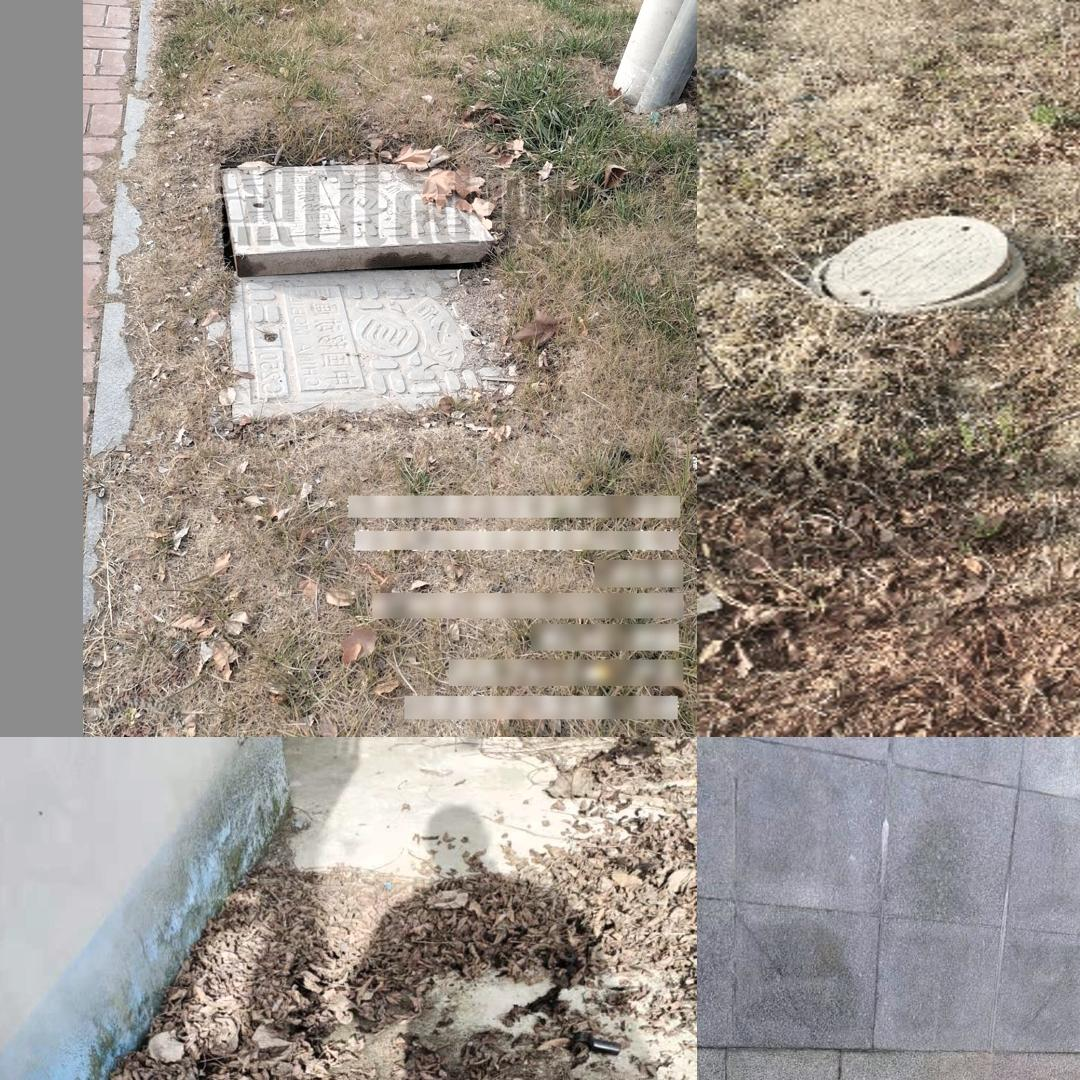uncovered: (216, 156, 527, 418), (808, 214, 1027, 312), (1073, 245, 1080, 342)
